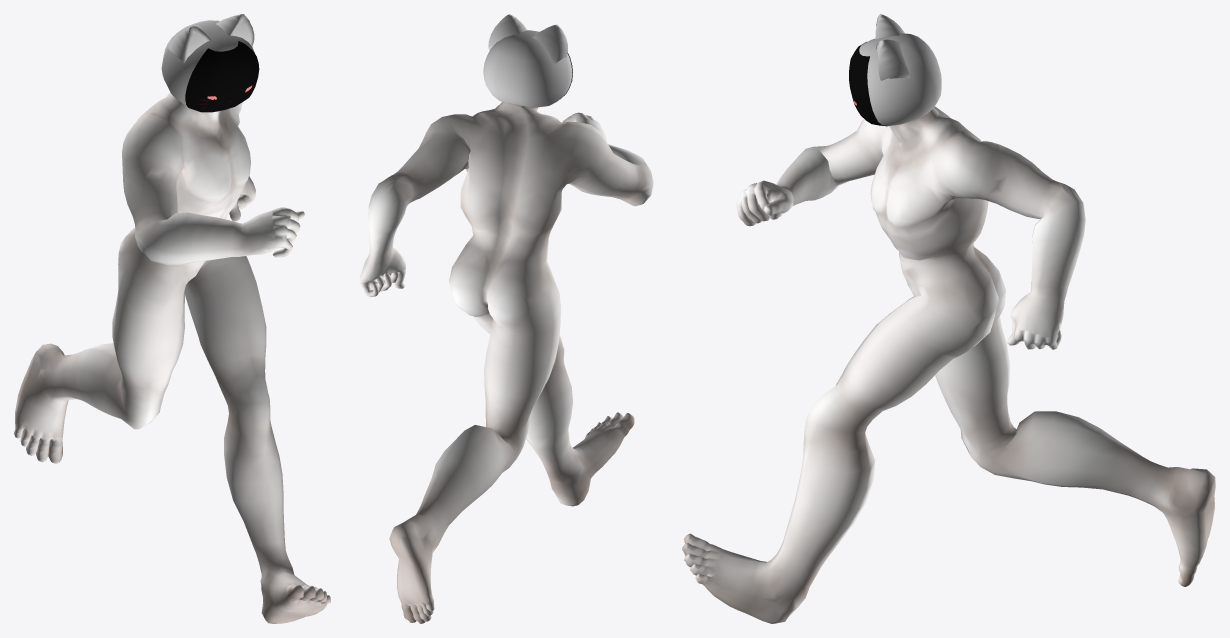
The picture shows the model from 3 angles, left to right: view 1: azimuth 30°, elevation 25°; view 2: azimuth 150°, elevation 25°; view 3: azimuth 270°, elevation 25°; orthographic projection. The views are drawn at different scales.
Visible parts, largest first — view 1: Muscle_Body, ______?001, Cat_Head; view 2: Muscle_Body, Cat_Head; view 3: Muscle_Body, Cat_Head, ______?001.
Part boxes in pixels (x1,y1,x2,y2): Muscle_Body: [14, 92, 330, 623]; ______?001: [185, 41, 259, 112]; Cat_Head: [161, 14, 254, 106]; Muscle_Body: [359, 102, 653, 623]; Cat_Head: [483, 14, 572, 107]; Muscle_Body: [682, 106, 1215, 623]; Cat_Head: [859, 14, 941, 125]; ______?001: [849, 42, 887, 126].
Bounding box in the file's own units: 10.47 × 26.92 × 22.05.
